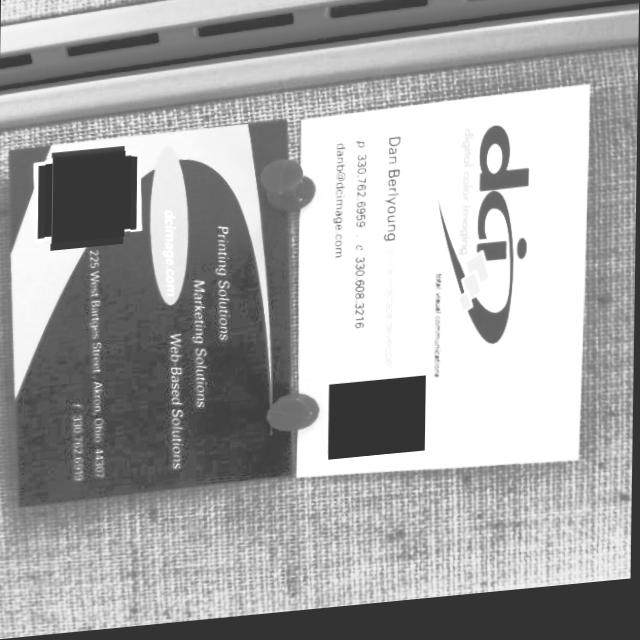qr_code: (44, 153, 131, 246), (329, 384, 426, 467)
